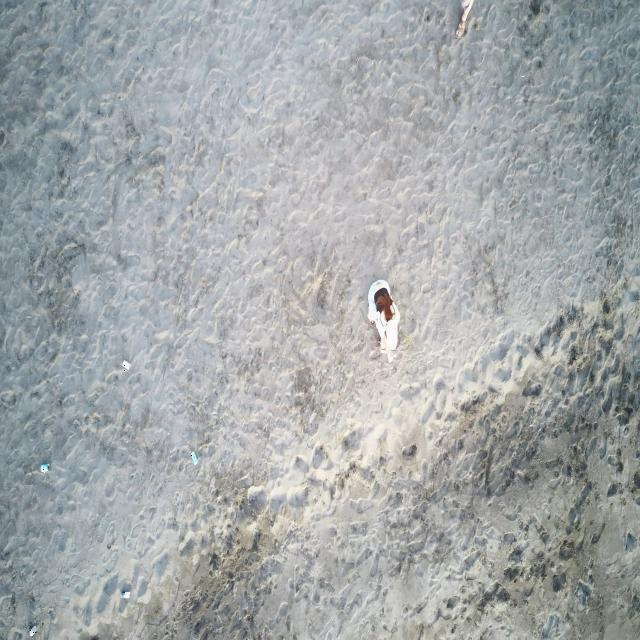Garbage: (455, 0, 472, 36), (28, 624, 36, 635), (121, 360, 129, 371), (120, 590, 128, 599), (40, 463, 48, 472), (192, 451, 196, 464)
